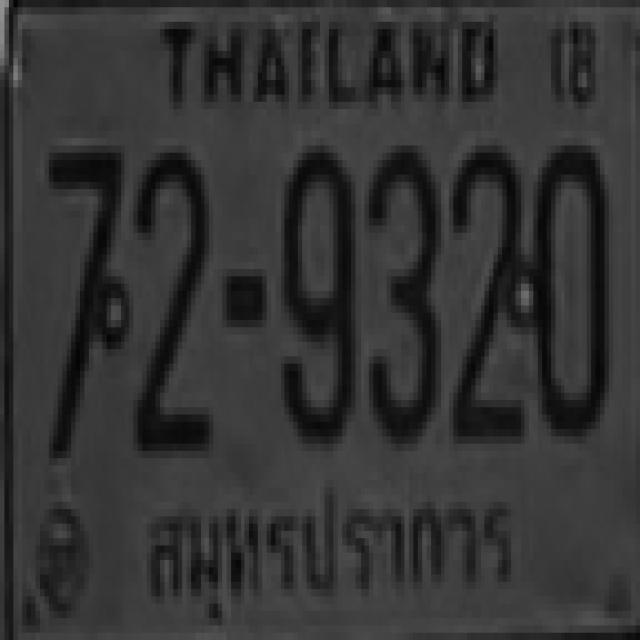0: (529, 142, 604, 433)
2: (131, 145, 207, 451), (451, 142, 522, 440)
3: (364, 138, 436, 436)
7: (44, 138, 120, 451), (44, 138, 120, 356)
9: (276, 138, 351, 436)
SamutPrakan: (137, 479, 521, 623)
